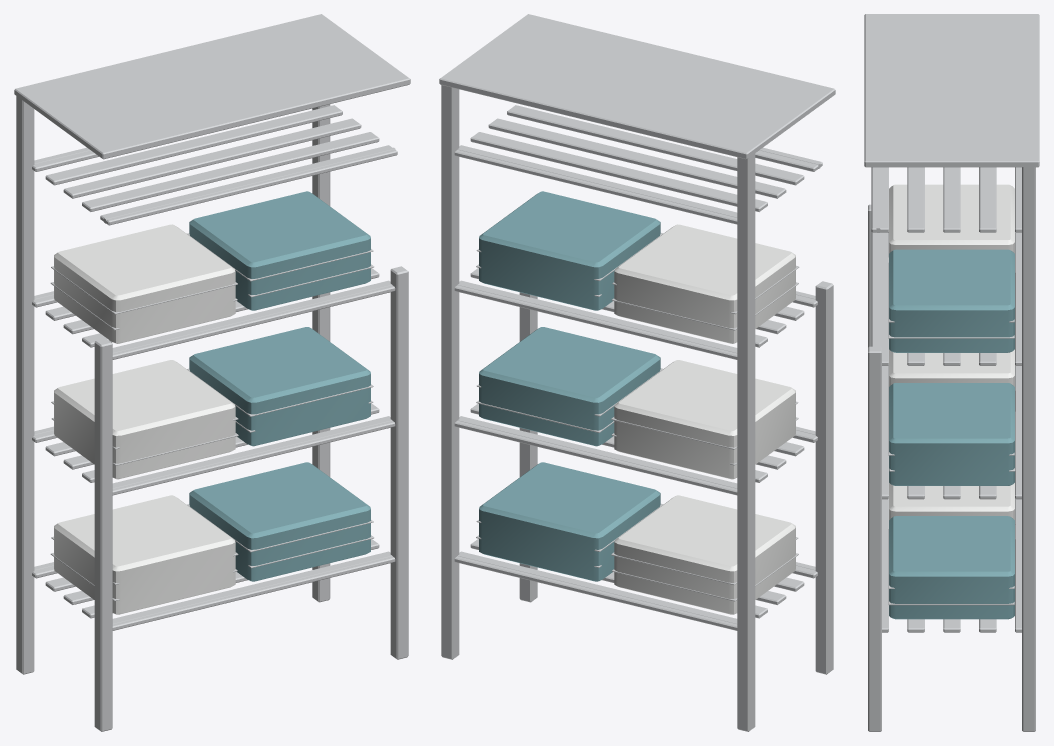
File: clinic-and-veterinary-practice-linen-store-shelving-7fb15edc__16787.glb
3 renders of one model, left to right at view 1: azimuth 30°, elevation 25°; view 2: azimuth 150°, elevation 25°; view 3: azimuth 270°, elevation 25°, orthographic.
Visible parts, largest first — view 1: linen-store-shelving; view 2: linen-store-shelving; view 3: linen-store-shelving.
Boxes of the visible parts, x1=… form: linen-store-shelving: x1=14, y1=14, x2=410, y2=731; linen-store-shelving: x1=439, y1=14, x2=835, y2=731; linen-store-shelving: x1=864, y1=14, x2=1039, y2=731.
Bounding box in the file's own units: 1 × 1.8 × 0.4999.
